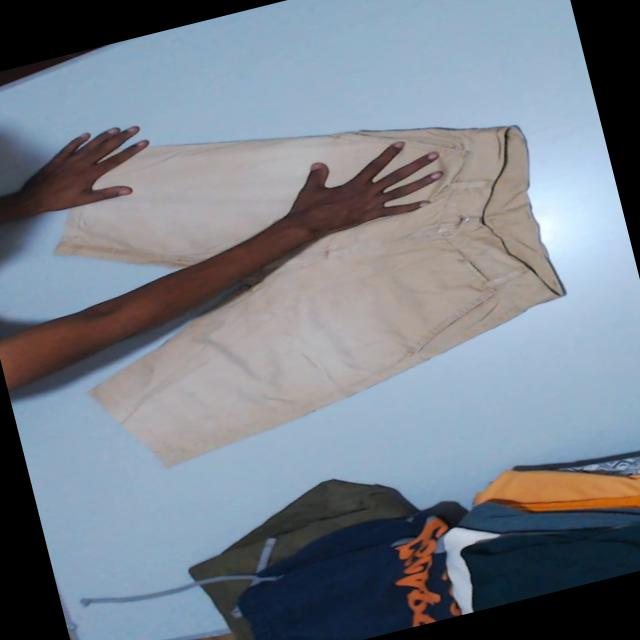new-garment: (55, 125, 560, 465)
